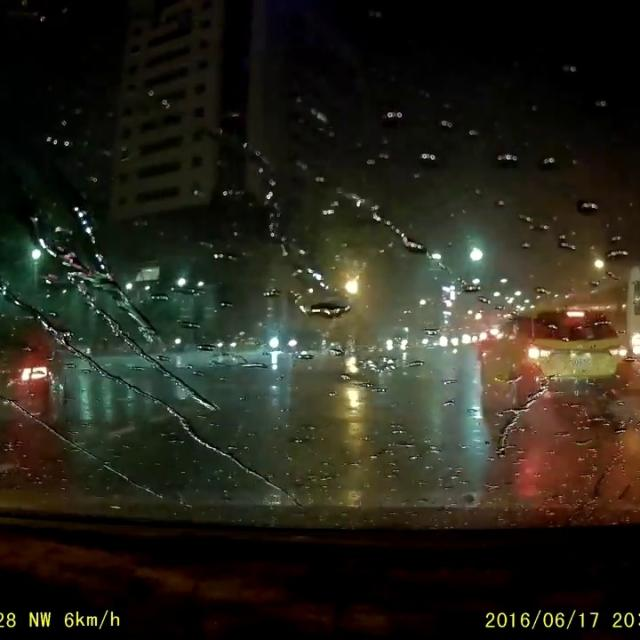Car: (477, 306, 626, 409), (0, 312, 68, 466), (266, 326, 321, 349), (215, 335, 257, 353), (383, 332, 409, 351), (421, 329, 444, 350)
